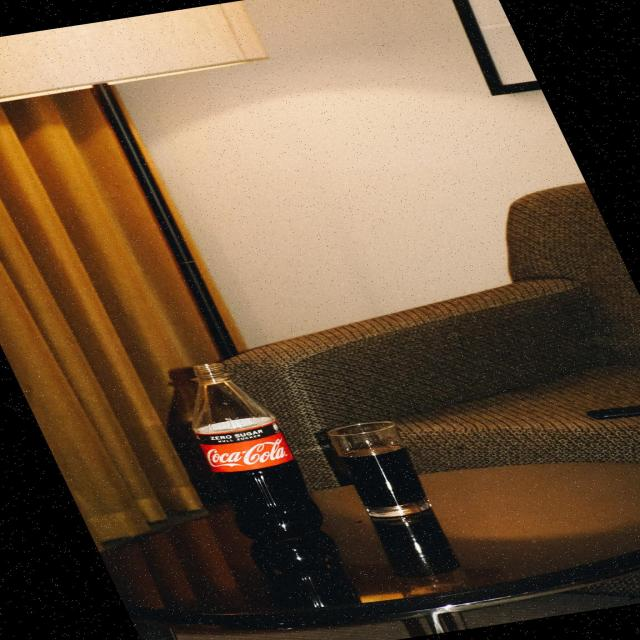coca-cola: (191, 434, 299, 476)
